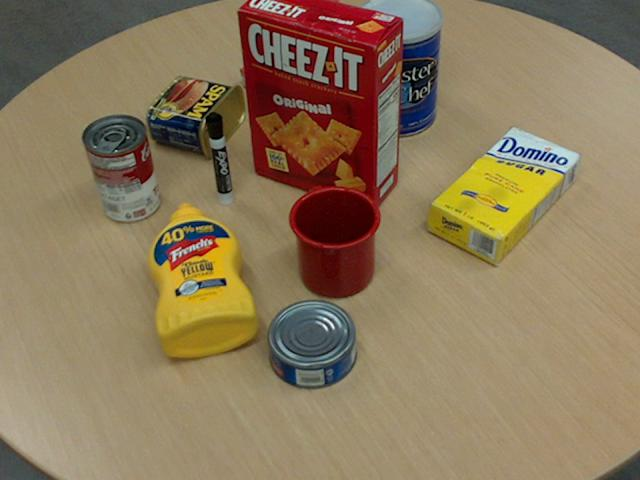cracker_box: (238, 0, 403, 209)
gelatin_box: (238, 48, 321, 112)
large_marker: (204, 112, 232, 206)
master_chef_can: (354, 0, 442, 137)
mug: (287, 185, 380, 297)
mustard_bottle: (146, 203, 258, 356)
potted_meat_can: (146, 75, 245, 156)
sugar_box: (427, 127, 580, 265)
tomato_soup_can: (81, 112, 159, 221)
tuna_fish_can: (267, 300, 357, 388)
